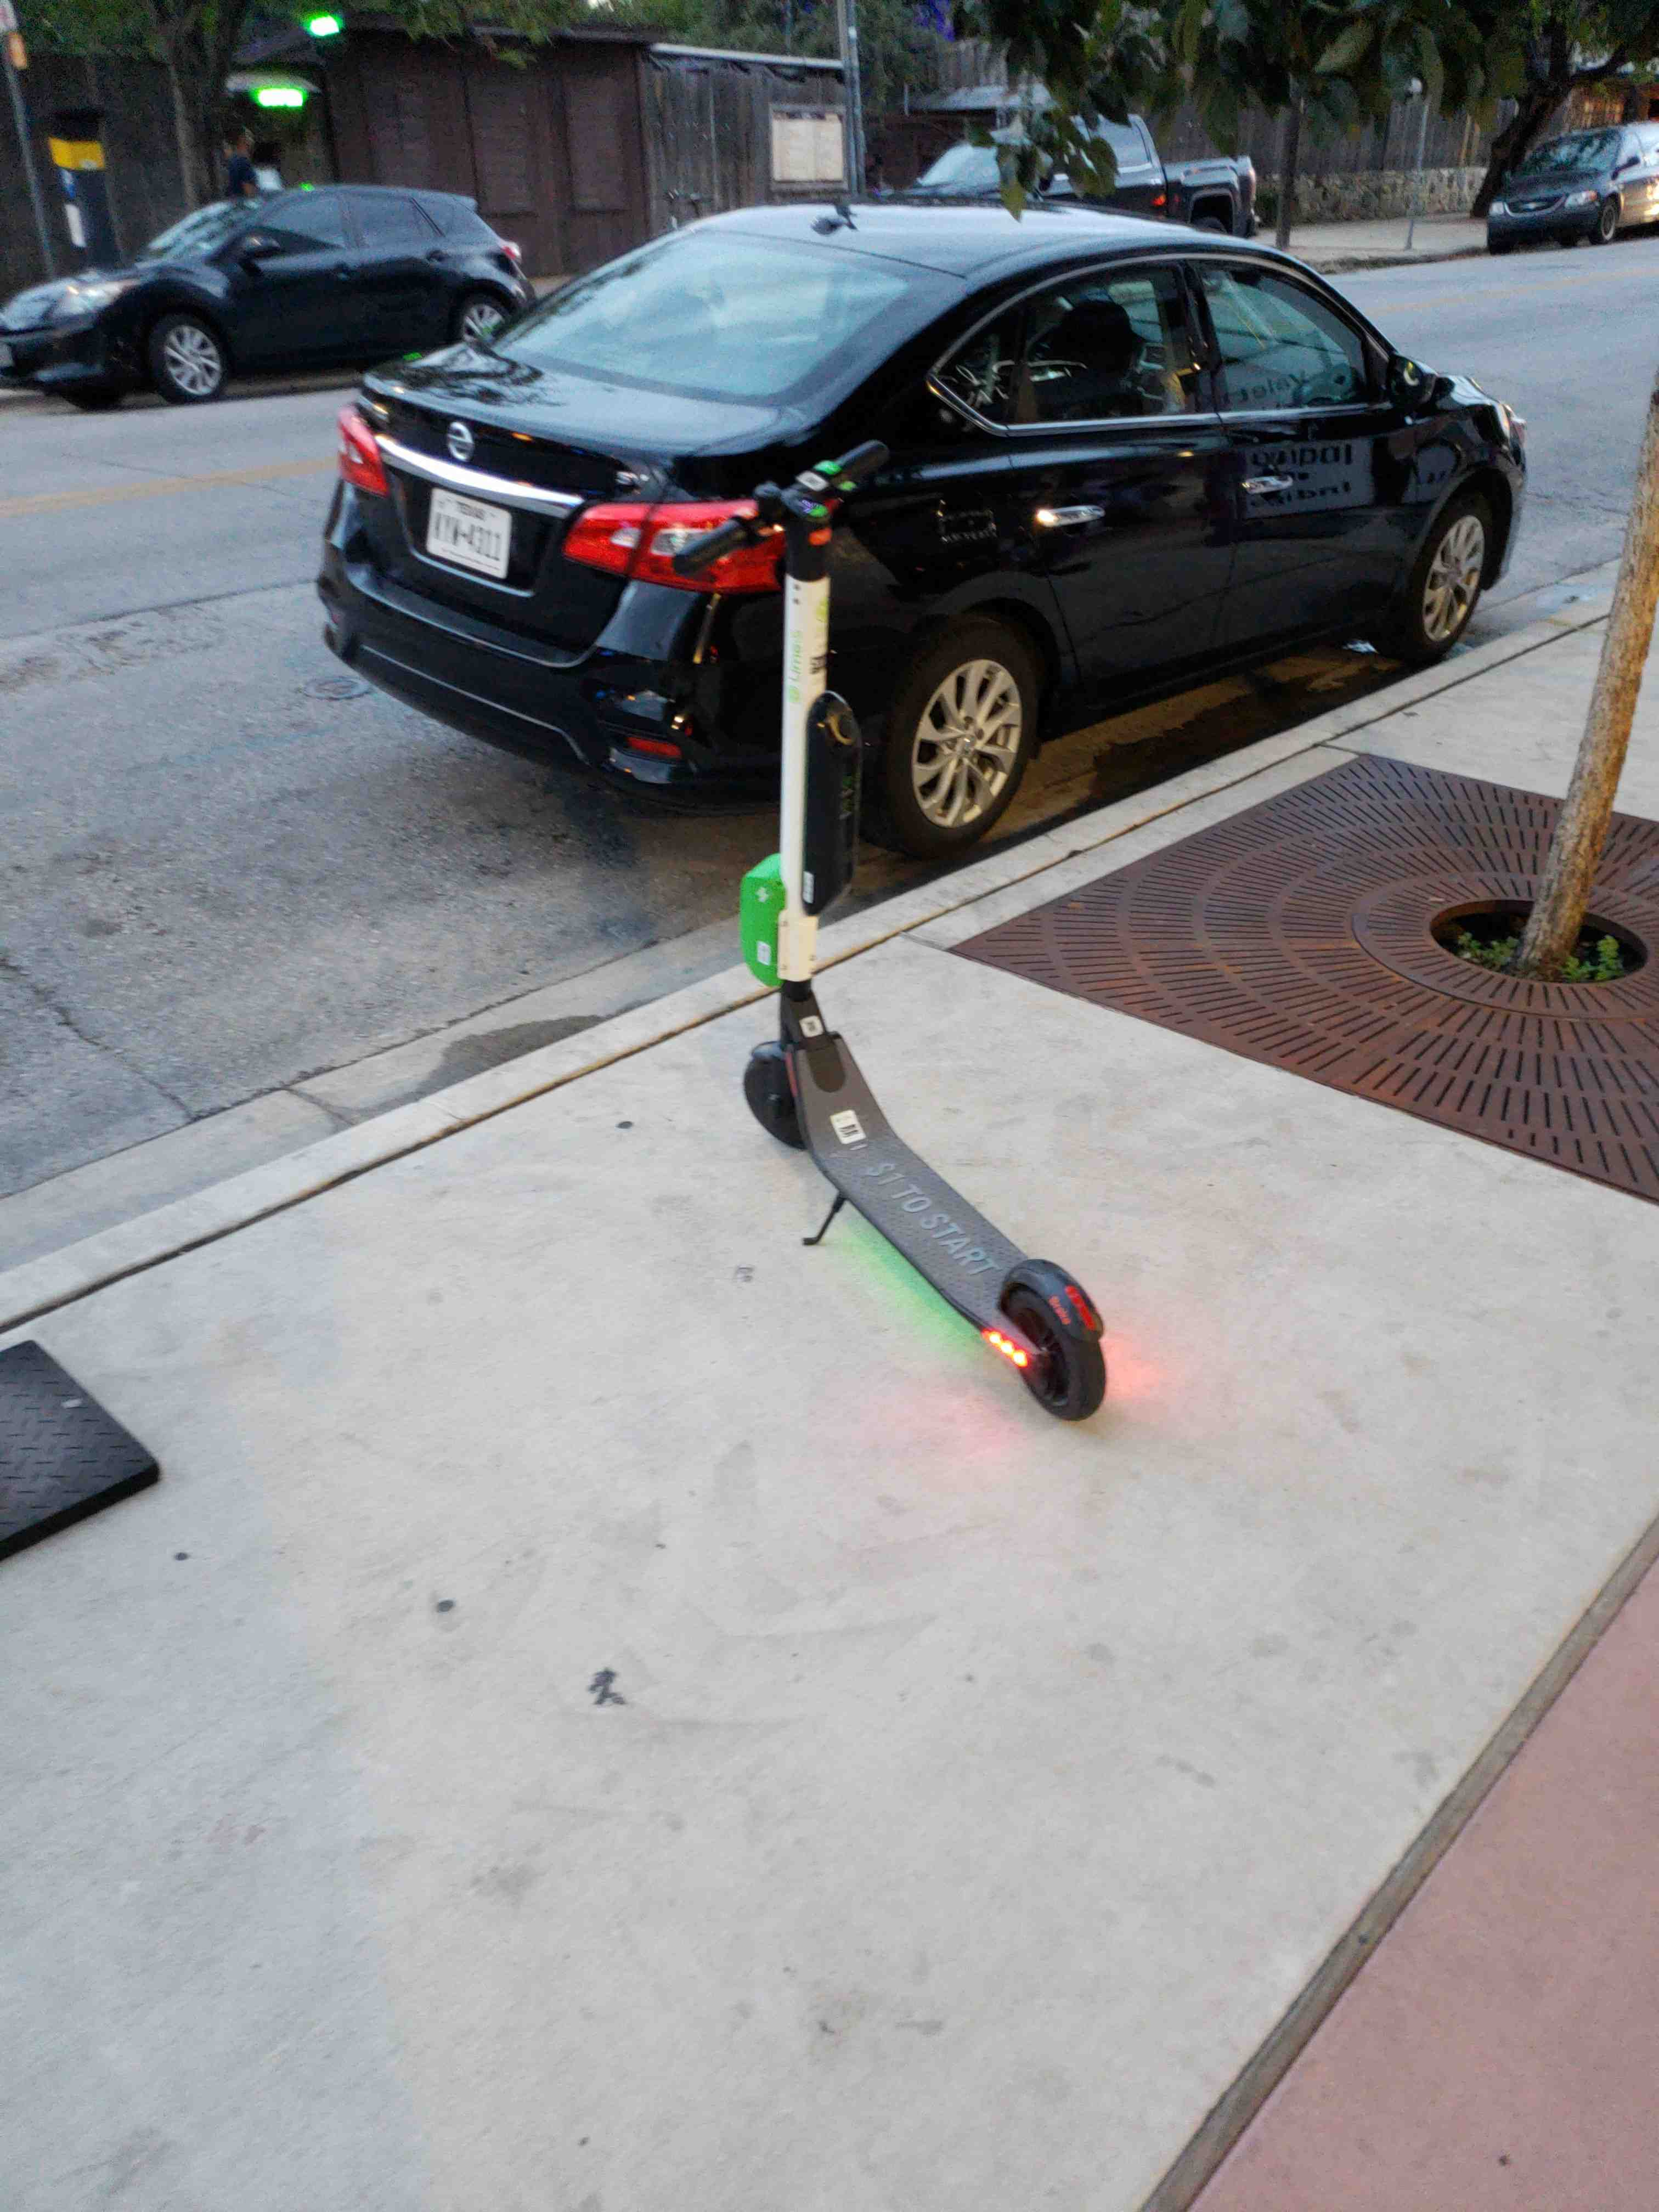scooter: (647, 472, 1117, 1447)
